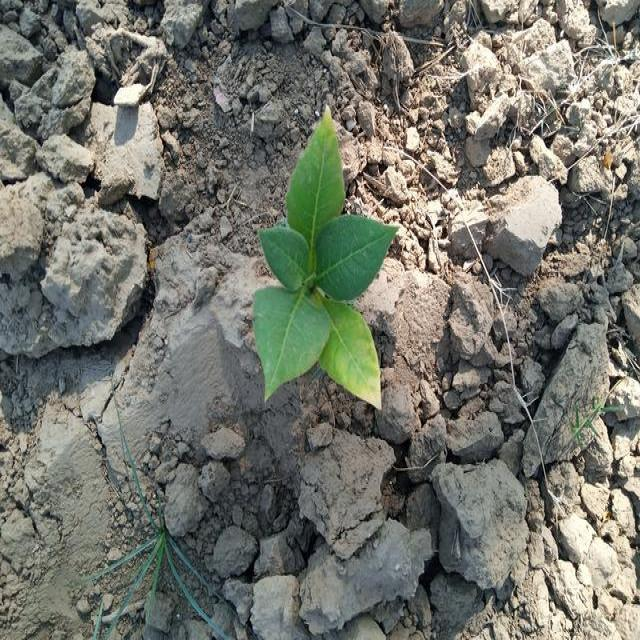crop: (258, 100, 398, 418)
